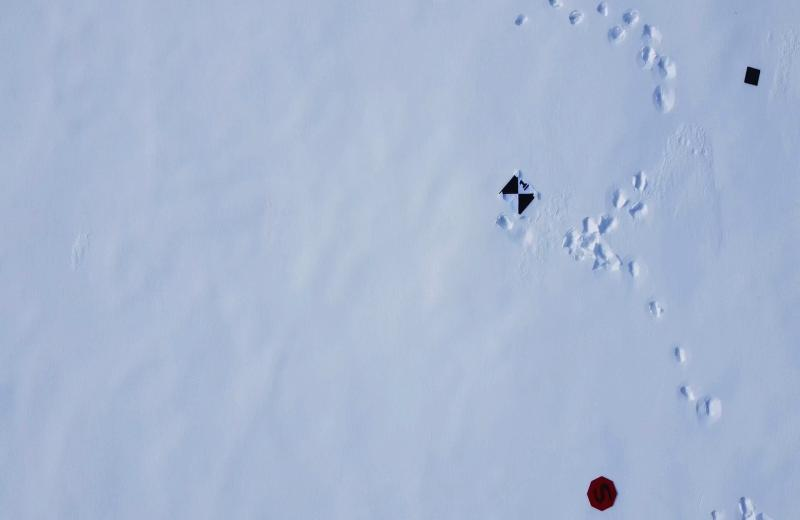Octagon: (585, 473, 619, 516)
Square: (743, 63, 762, 91)
